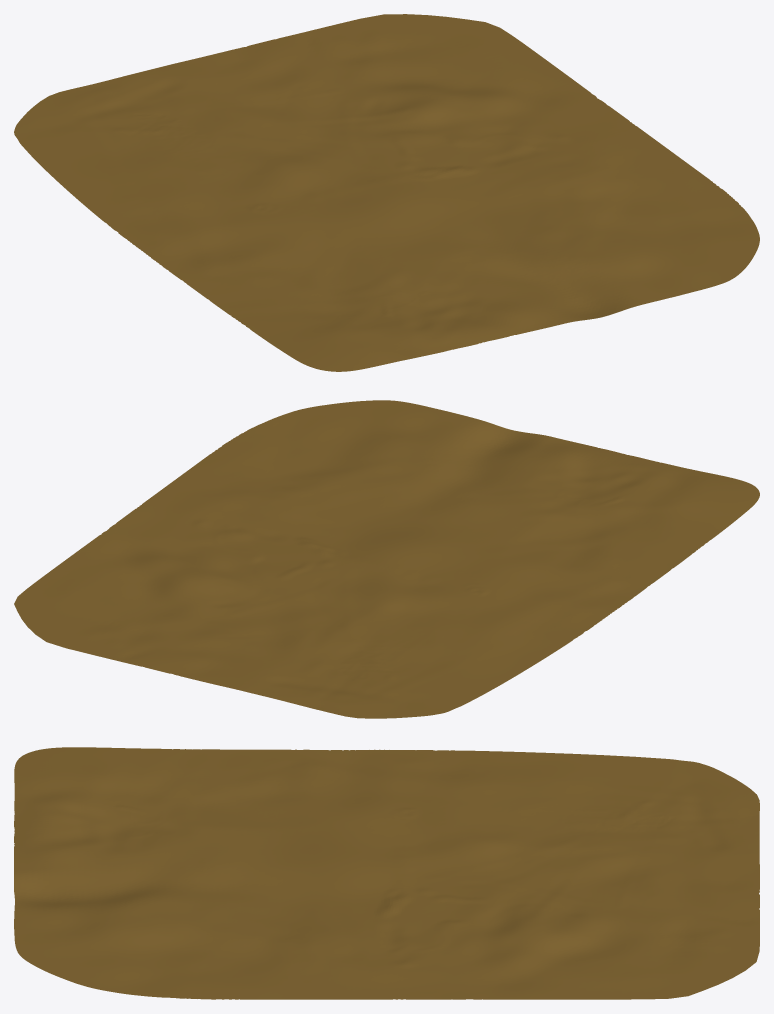
Rendered from Ground.fbx.
3 renders of one model, top to bottom at view 1: azimuth 30°, elevation 25°; view 2: azimuth 150°, elevation 25°; view 3: azimuth 270°, elevation 25°, orthographic. The views are drawn at different scales.
Parts seen in each view (by area): view 1: Ground; view 2: Ground; view 3: Ground.
Part boxes in pixels (box(x1,y1,x2,y2)): Ground: box(14, 14, 759, 371); Ground: box(14, 400, 759, 718); Ground: box(14, 747, 759, 999).
Size of the model in its own units: 13795 by 287 by 17405.
